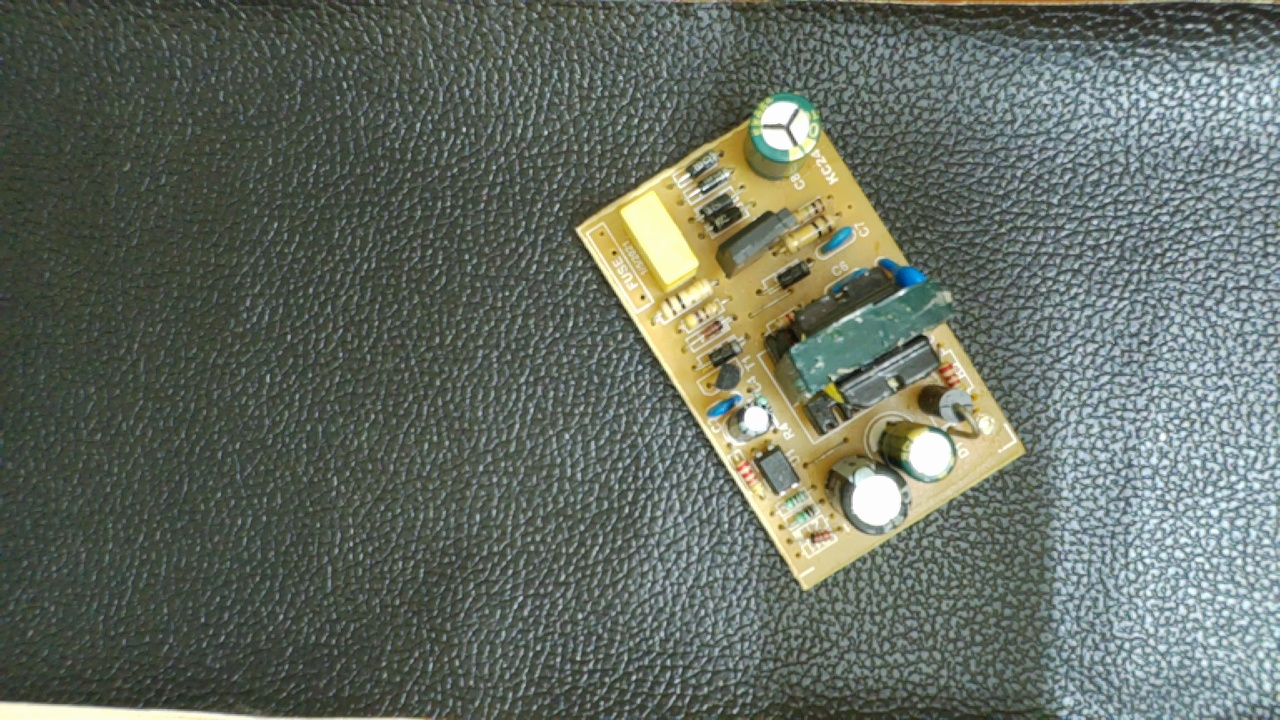hv_capacitor: (744, 93, 819, 180)
mov: (875, 251, 929, 299)
optocoupler: (749, 441, 807, 497)
